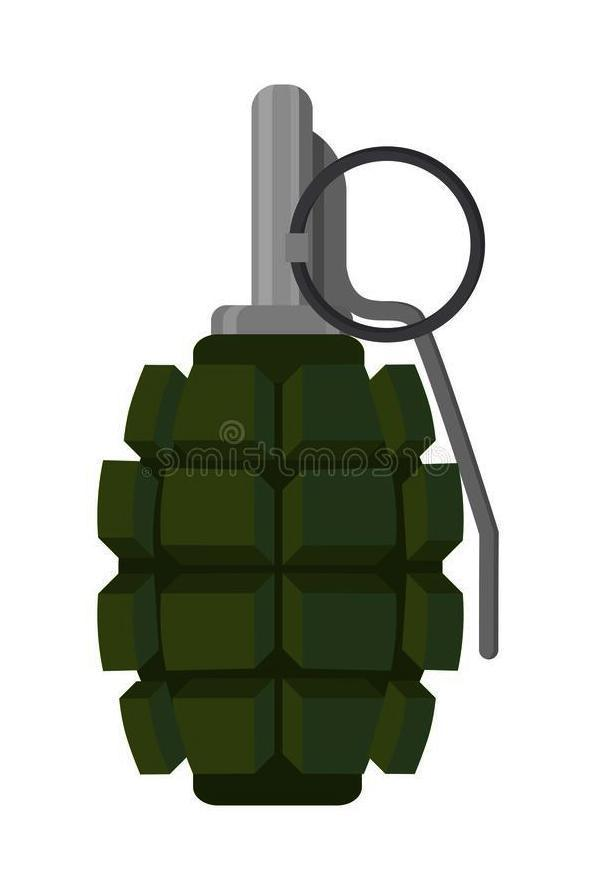Grenade: (98, 83, 499, 805)
